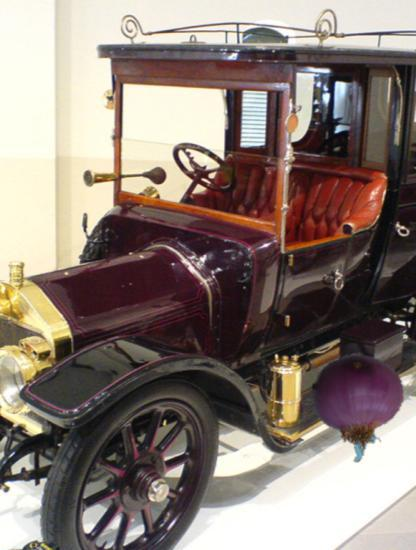Onion: (299, 351, 413, 465)
